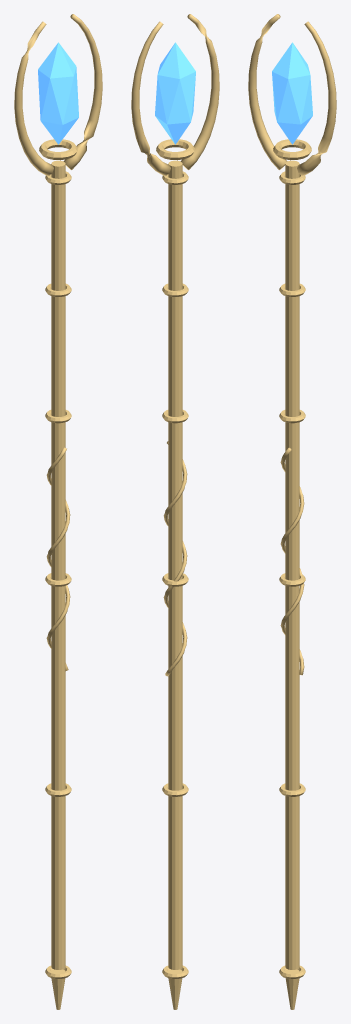
File: LYRA_staff_goldcrystal.fbx
3 renders of one model, left to right at view 1: azimuth 30°, elevation 25°; view 2: azimuth 210°, elevation 25°; view 3: azimuth 330°, elevation 25°, orthographic.
Parts seen in each view (by area): view 1: LYRA_staff_goldcrystal; view 2: LYRA_staff_goldcrystal; view 3: LYRA_staff_goldcrystal.
Boxes of the visible parts, box(x1,y1,x2,y2) form: LYRA_staff_goldcrystal: box(14, 14, 102, 1009); LYRA_staff_goldcrystal: box(131, 14, 219, 1009); LYRA_staff_goldcrystal: box(248, 14, 336, 1009).
Size of the model in its own units: 0.1964 by 2.12 by 0.0766.
